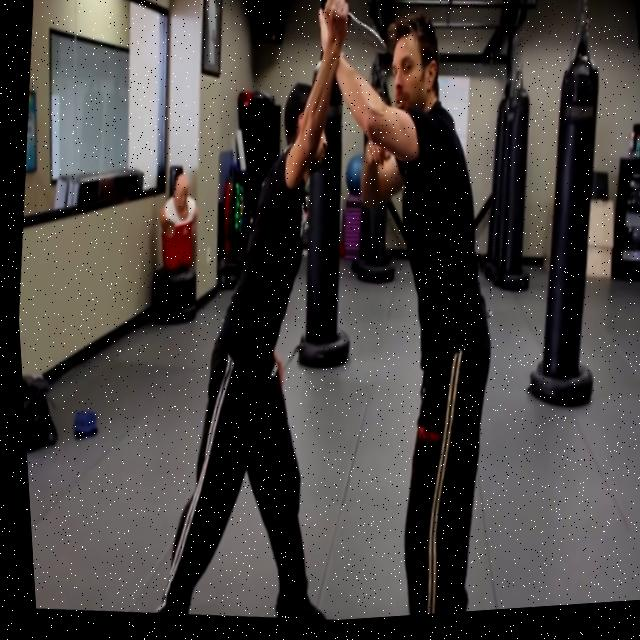knife: (341, 12, 390, 66)
